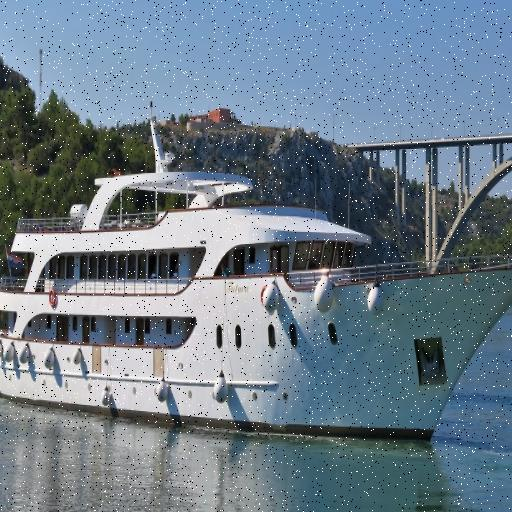cruises: (1, 115, 512, 454)
